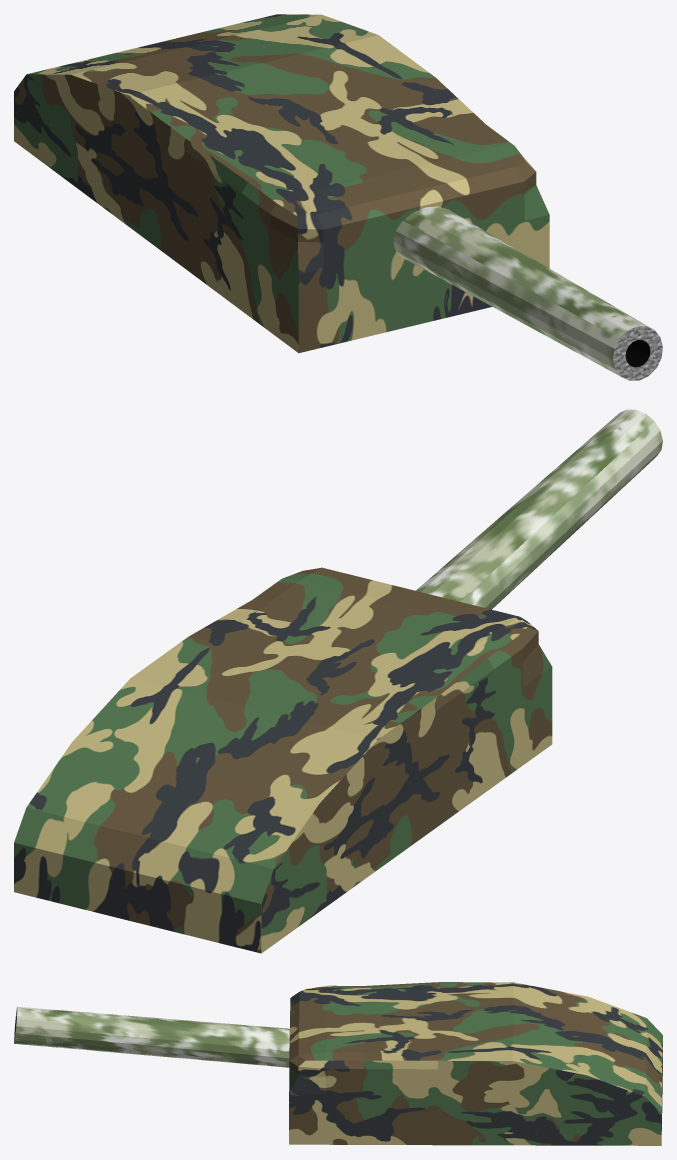
File: Gturret.dae
3 renders of one model, top to bottom at view 1: azimuth 30°, elevation 25°; view 2: azimuth 150°, elevation 25°; view 3: azimuth 270°, elevation 25°, orthographic. The views are drawn at different scales.
Visible parts, largest first — view 1: Turret-0; view 2: Turret-0; view 3: Turret-0.
Boxes of the visible parts, box(x1,y1,x2,y2) form: Turret-0: box(14, 14, 662, 380); Turret-0: box(14, 409, 662, 953); Turret-0: box(14, 982, 662, 1145).
Size of the model in its own units: 1.02 by 0.5766 by 3.48.
